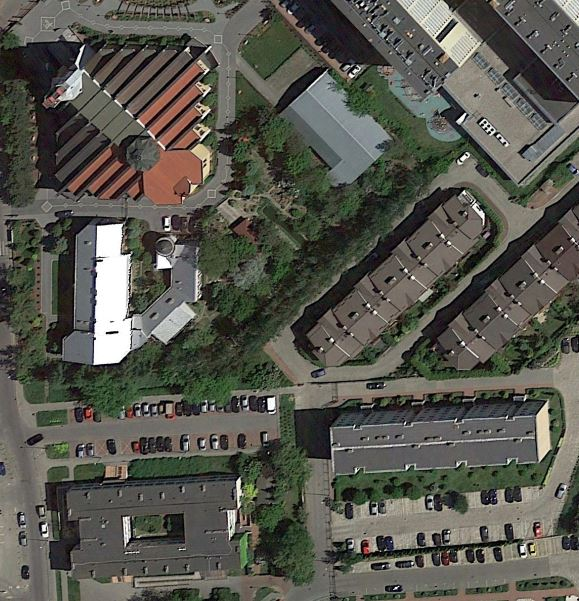block of flats: (50, 463, 269, 587), (322, 392, 559, 490), (320, 1, 484, 105), (55, 214, 145, 382), (482, 1, 577, 105)
church: (38, 36, 229, 207)
terrace house: (300, 193, 494, 376), (429, 201, 579, 374)
